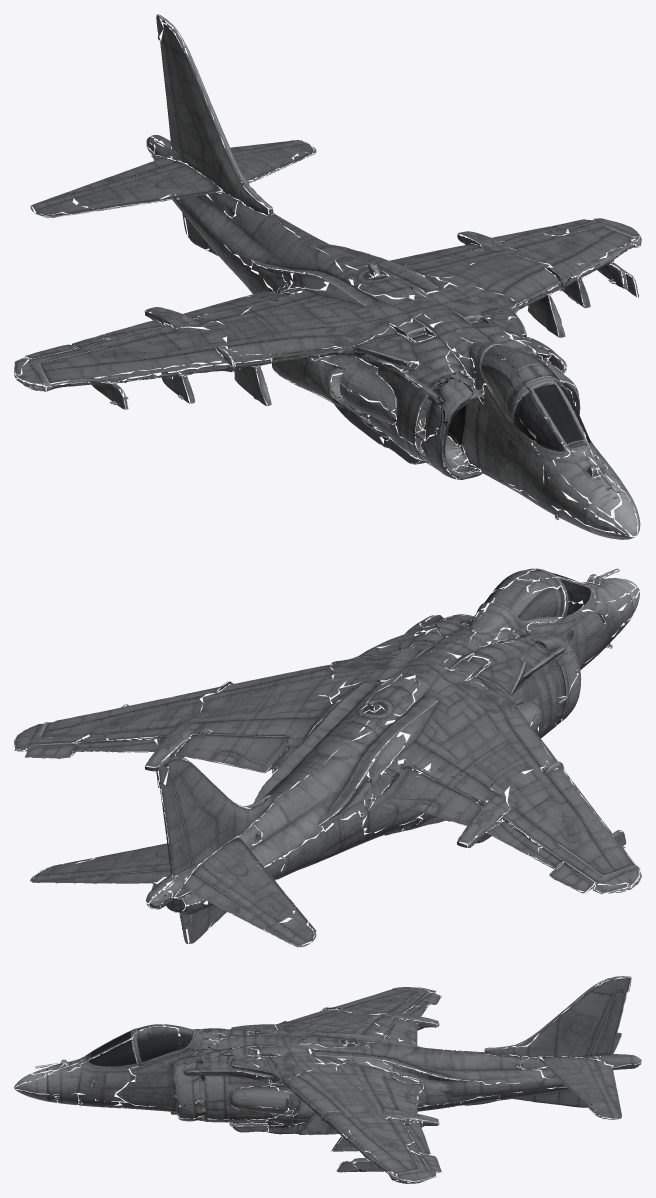
3 renders of one model, top to bottom at view 1: azimuth 30°, elevation 25°; view 2: azimuth 150°, elevation 25°; view 3: azimuth 270°, elevation 25°, orthographic. The views are drawn at different scales.
Bounding box in the file's own units: 1.39 × 0.4773 × 1.9.
Materials: 1 (1 with a texture image).
